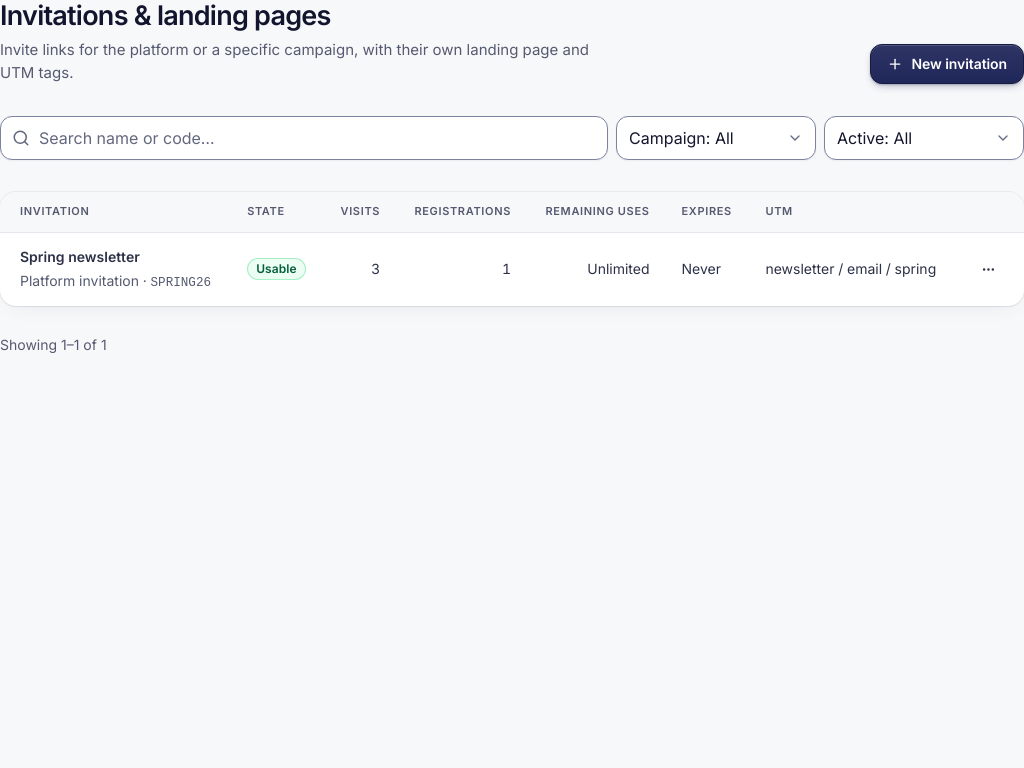
Test case: InvitationsPage › previews the landing page with preview=true so no visit is counted
Click the button named "Actions for Spring newsletter": (988, 269) x1=972 y1=253 x2=1004 y2=285
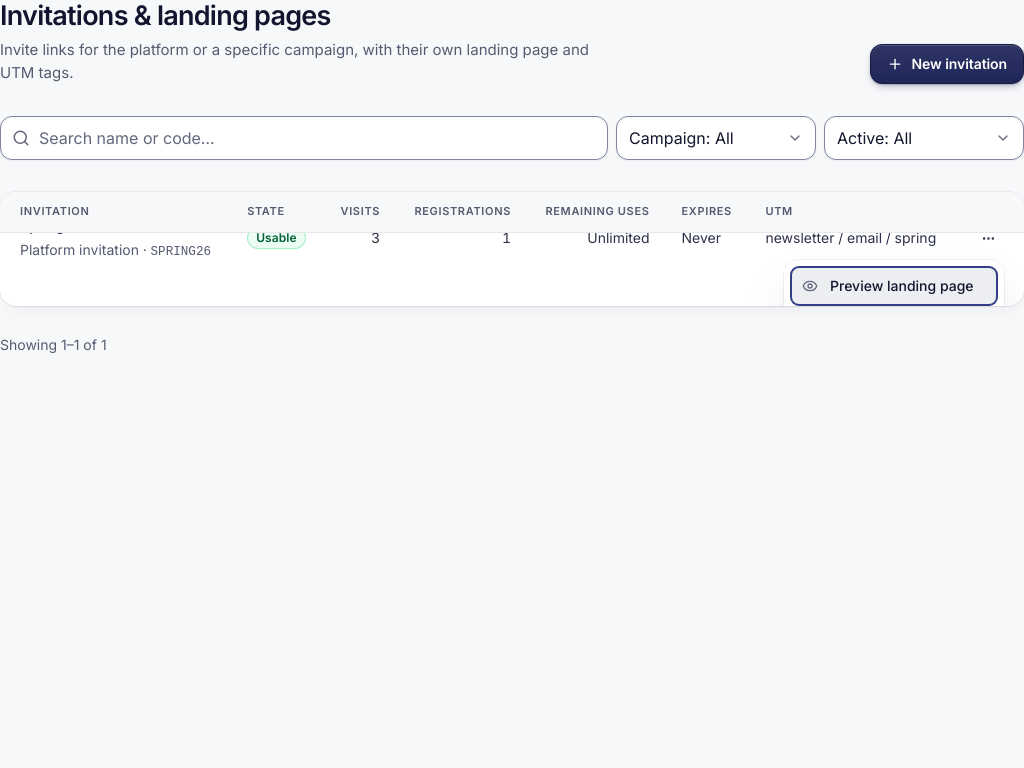
Click the menu item "Preview landing page": (894, 286) x1=790 y1=266 x2=998 y2=306
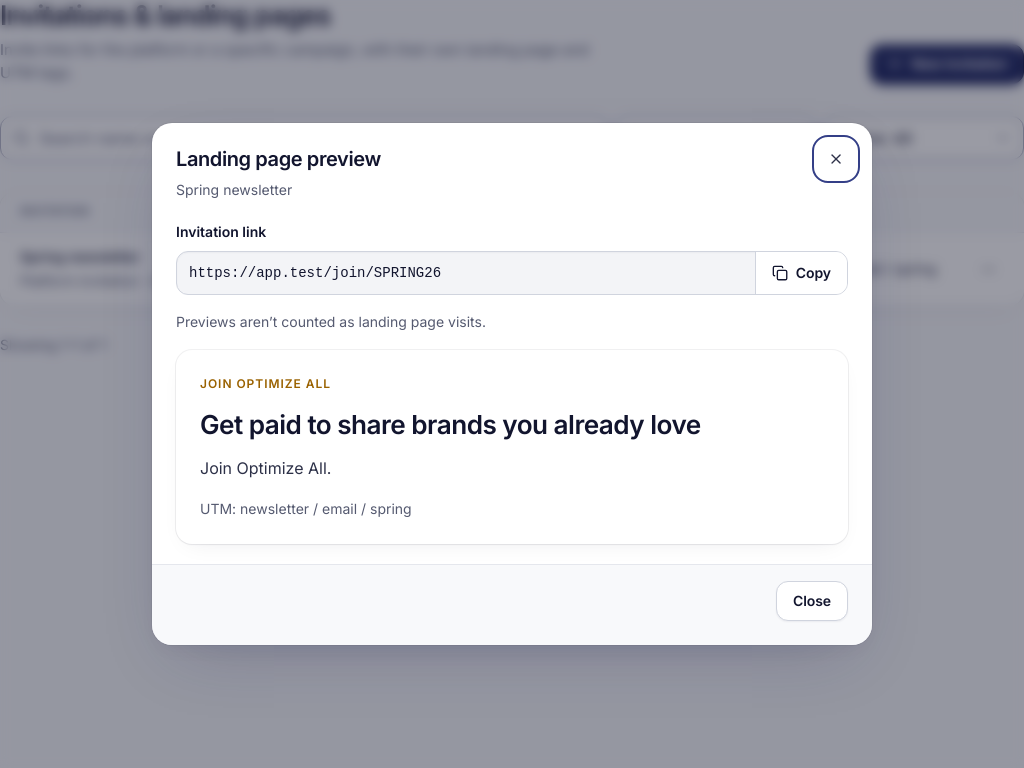
Check: the heading "Get paid to share brands you already love" is shown, box x1=200 y1=409 x2=701 y2=440
Check: the text "Previews aren’t counted as landing page visits." is shown, box x1=176 y1=313 x2=486 y2=330
